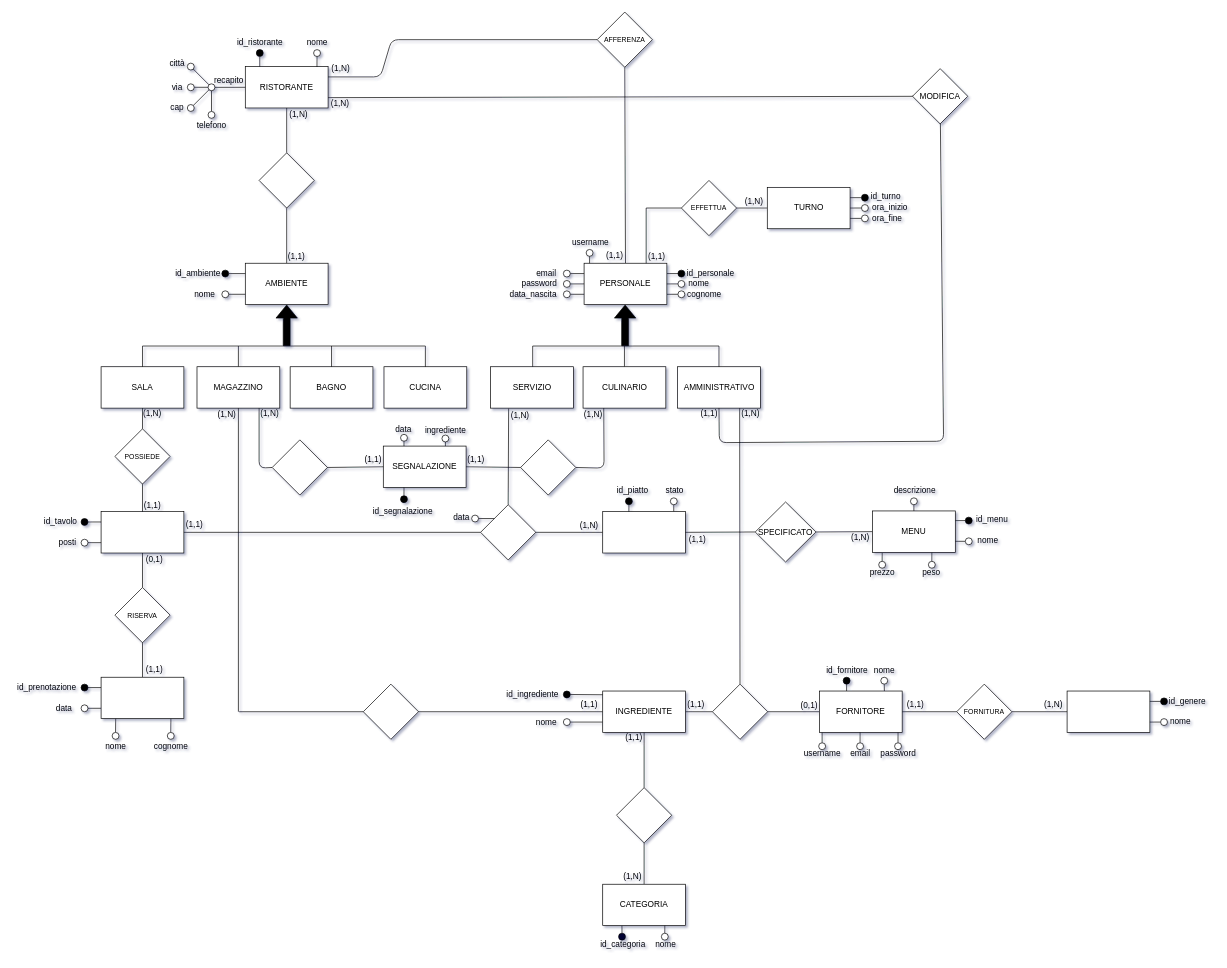
This 1227x968 diagram has some shape labels left out. The shapes that lost their labels are listed below. From the top down, each one's centre as x and y in pixels, then its label:
At point (286, 180): "SUDDIVISO".
At point (299, 467): "COLLEGATO".
At point (548, 467): "CREA".
At point (142, 532): "TAVOLO".
At point (508, 532): "COMANDA".
At point (644, 532): "PIATTO".
At point (142, 698): "PRENOTAZIONE".
At point (390, 711): "DEPOSITATO".
At point (740, 711): "ORDINA".
At point (1108, 711): "GENERE".
At point (644, 815): "TIPO".
